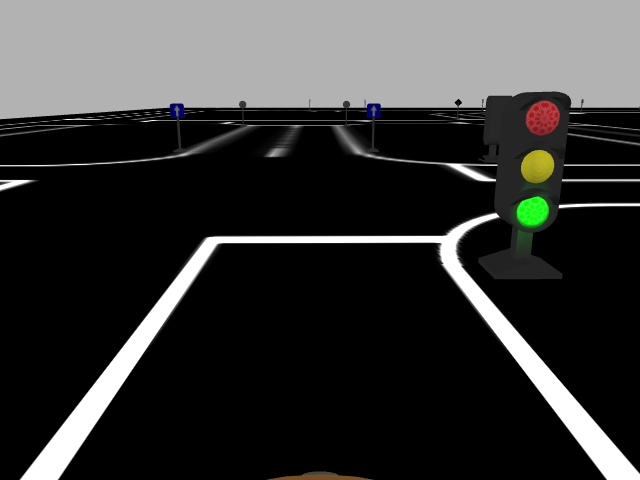green_light: (495, 93, 571, 234)
oneway: (168, 102, 185, 120), (365, 102, 382, 119)
